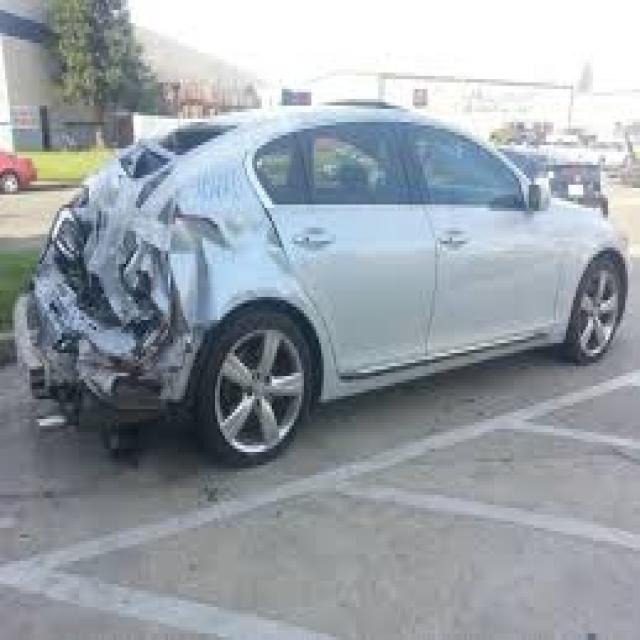severe: (45, 152, 210, 428)
